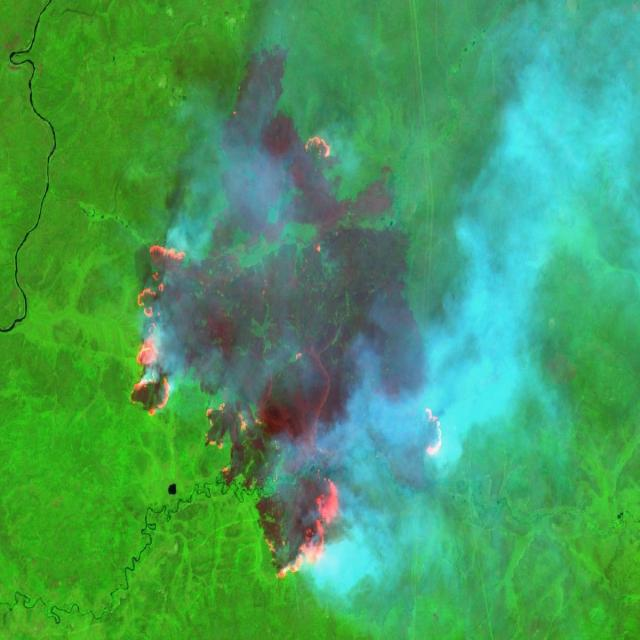fire: (125, 131, 456, 589)
